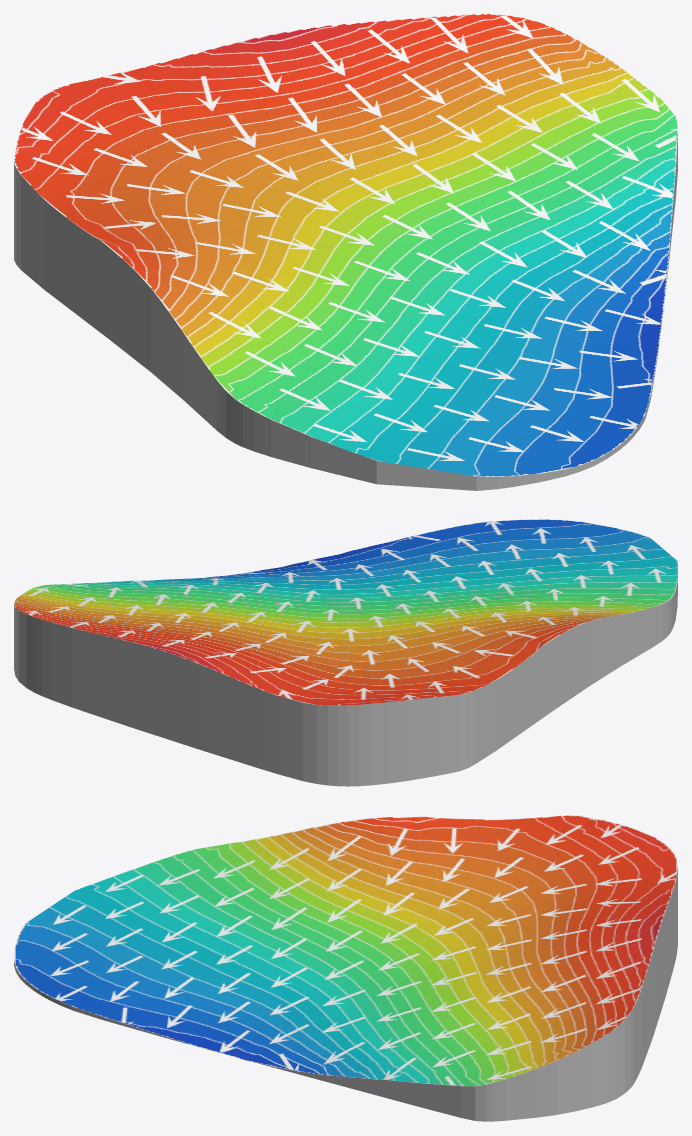
The picture shows the model from 3 angles, top to bottom: view 1: azimuth 30°, elevation 25°; view 2: azimuth 150°, elevation 25°; view 3: azimuth 270°, elevation 25°; orthographic projection. The views are drawn at different scales.
Size of the model in its own units: 5.13 by 0.8801 by 6.04.
2 materials, 1 textured.
